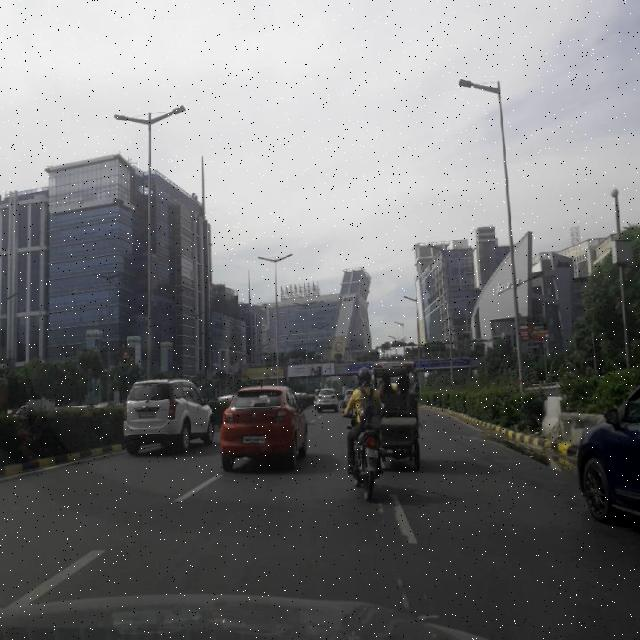D00: (396, 566, 410, 614), (375, 494, 389, 542)
